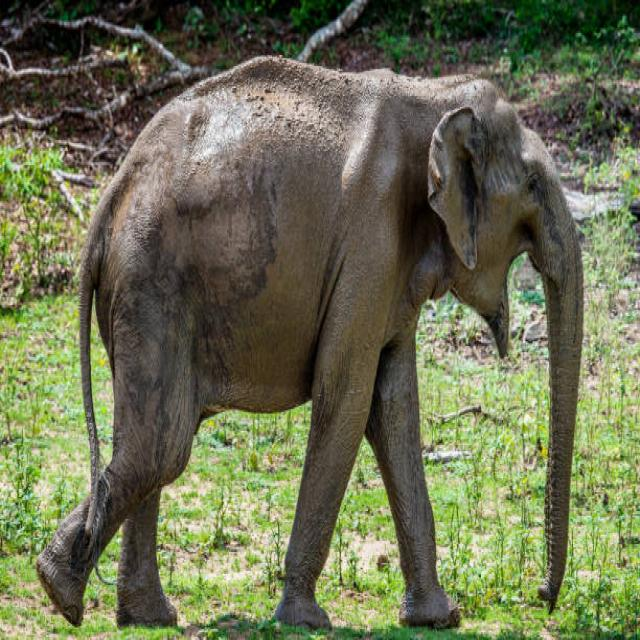Elephant: (34, 42, 587, 636)
